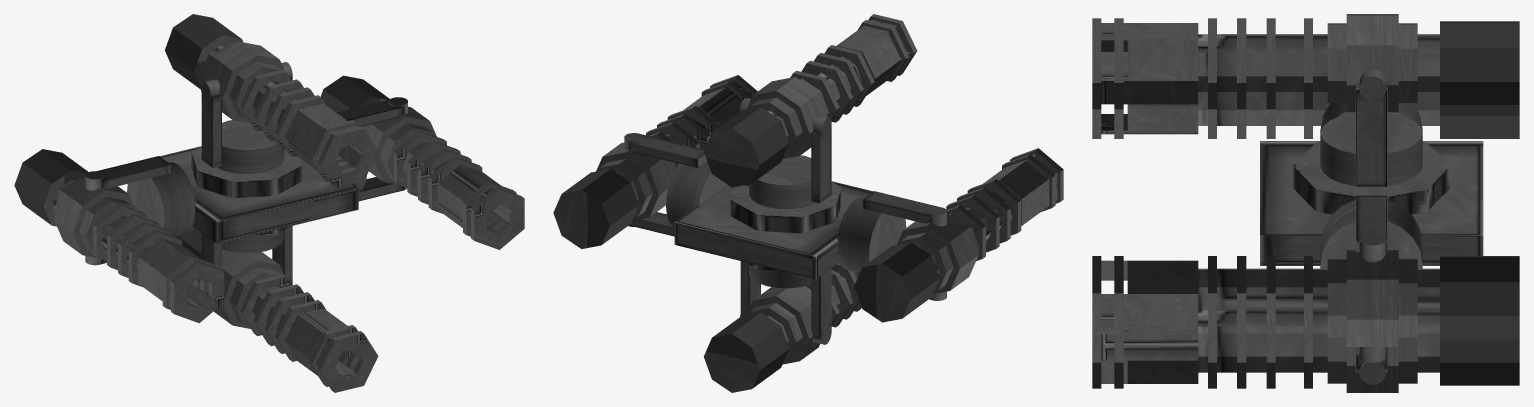
File: Turret2.fbx
3 views of the same model, side by side, from view 1: azimuth 30°, elevation 25°; view 2: azimuth 150°, elevation 25°; view 3: azimuth 270°, elevation 25° (orthographic). The views are drawn at different scales.
Parts seen in each view (by area): view 1: top_of_turret; view 2: top_of_turret; view 3: top_of_turret.
Boxes of the visible parts, x1=… form: top_of_turret: x1=14, y1=14, x2=524, y2=392; top_of_turret: x1=553, y1=14, x2=1063, y2=392; top_of_turret: x1=1092, y1=14, x2=1519, y2=392.
Size of the model in its own units: 1.36 by 0.9737 by 1.
Materials: 10 (10 with a texture image).
